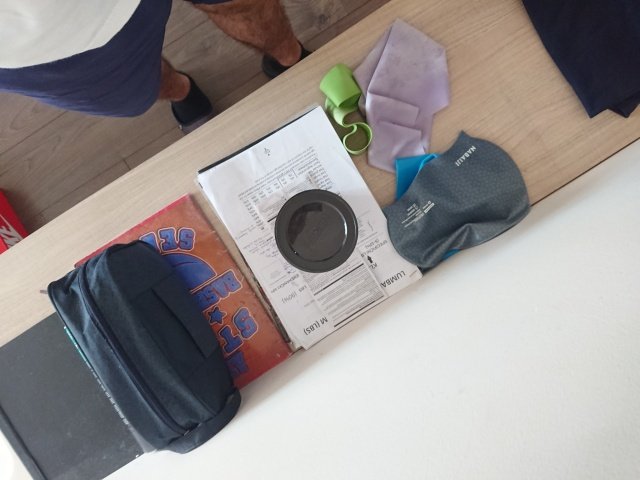Nescafe Classic 225g: (266, 184, 363, 280)
